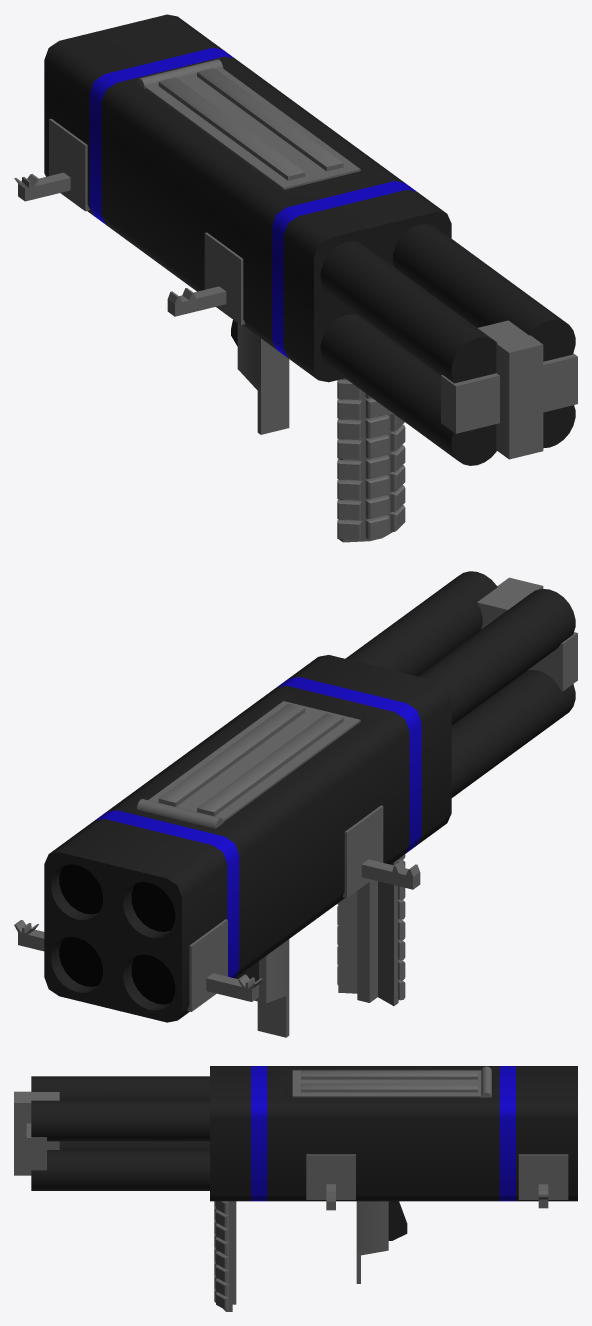
The model's file is TolyRocketJump.fbx.
The picture shows the model from 3 angles, top to bottom: view 1: azimuth 30°, elevation 25°; view 2: azimuth 150°, elevation 25°; view 3: azimuth 270°, elevation 25°; orthographic projection. The views are drawn at different scales.
Parts seen in each view (by area): view 1: Plane (×2), Plane.006, Plane.001; view 2: Plane (×3), Plane.006, Plane.001; view 3: Plane (×2), Plane.006, Plane.001.
Part boxes in pixels (box(x1,y1,x2,y2)): Plane (×2): box(44, 14, 575, 465); Plane.006: box(14, 118, 577, 542); Plane.001: box(137, 59, 360, 189); Plane (×3): box(44, 571, 575, 1022); Plane.006: box(14, 577, 577, 1037); Plane.001: box(137, 701, 360, 828); Plane (×2): box(31, 1066, 577, 1240); Plane.006: box(14, 1091, 568, 1311); Plane.001: box(292, 1066, 491, 1097).
Size of the model in its own units: 356 by 454 by 1039.
